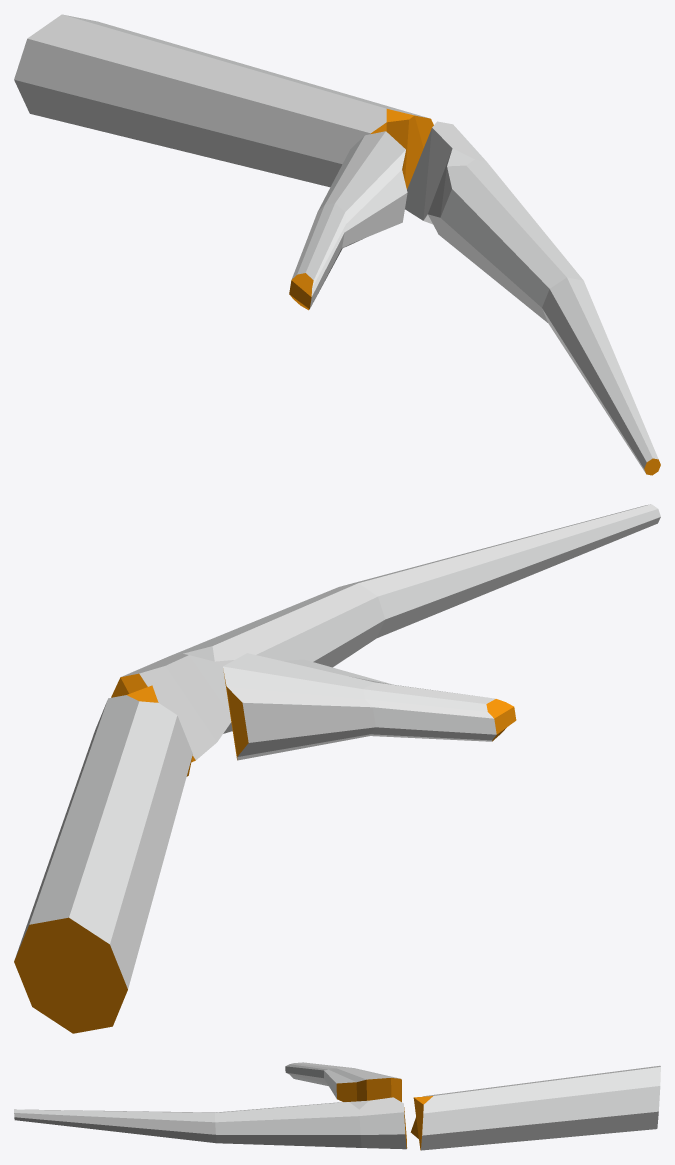
File: Stick_24.fbx
3 views of the same model, one above another, from view 1: azimuth 30°, elevation 25°; view 2: azimuth 150°, elevation 25°; view 3: azimuth 270°, elevation 25° (orthographic). The views are drawn at different scales.
Visible parts, largest first — view 1: Circle.226, Circle.234, Circle.235; view 2: Circle.226, Circle.234, Circle.235; view 3: Circle.226, Circle.234, Circle.235.
Part boxes in pixels (box(x1,y1,x2,y2)): Circle.226: box(14, 14, 433, 189); Circle.234: box(405, 121, 660, 475); Circle.235: box(289, 131, 407, 310); Circle.226: box(14, 685, 192, 1033); Circle.234: box(111, 504, 660, 762); Circle.235: box(223, 653, 516, 760); Circle.226: box(410, 1065, 660, 1150); Circle.234: box(14, 1097, 407, 1149); Circle.235: box(285, 1062, 401, 1101).
Size of the model in its own units: 8.86 by 4.31 by 32.62.
